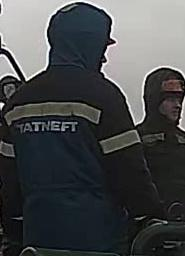helmet: (157, 72, 185, 96)
vest: (0, 67, 142, 255), (138, 118, 185, 192)
